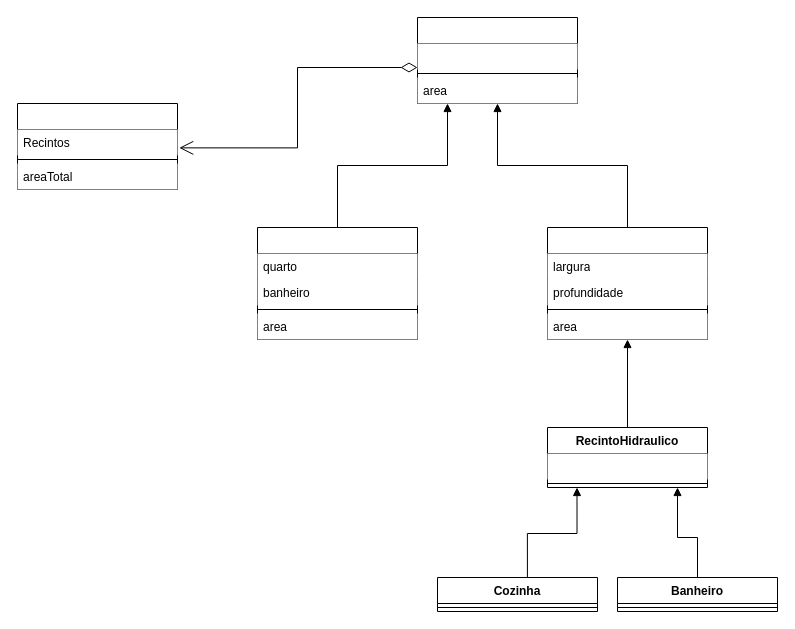
The diagram is 795 pixels wide and 629 high, and some of its shapes have lost their labels. Here are the shapes that lost their labels. From the top down, the box of each, then its label:
(417, 43, 577, 69): Nome
(416, 16, 578, 104): Recinto
(16, 102, 178, 190): Unidade
(256, 226, 418, 340): Suite
(546, 226, 708, 340): RecintoSimples
(547, 453, 707, 479): numeroRegistros
